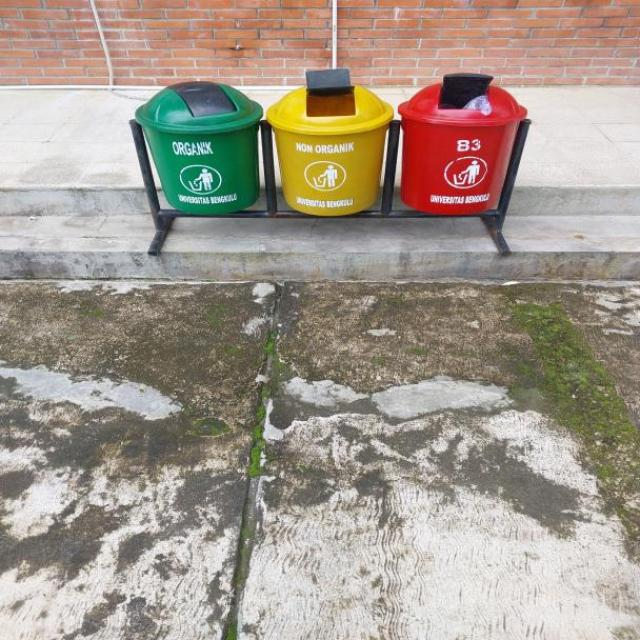dustbin ahead at: (132, 49, 532, 226)
